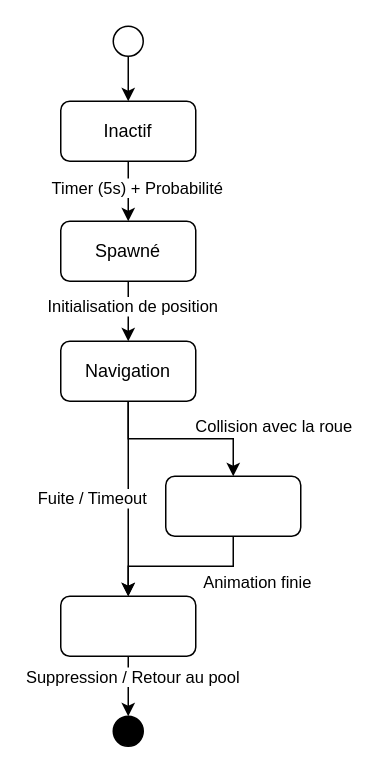
The diagram is 378 pixels wide and 773 high, and some of its shapes have lost their labels. Each missing label, with the box of its shape:
Détruit: (59, 595, 196, 656)
Écrasé: (164, 475, 301, 536)
